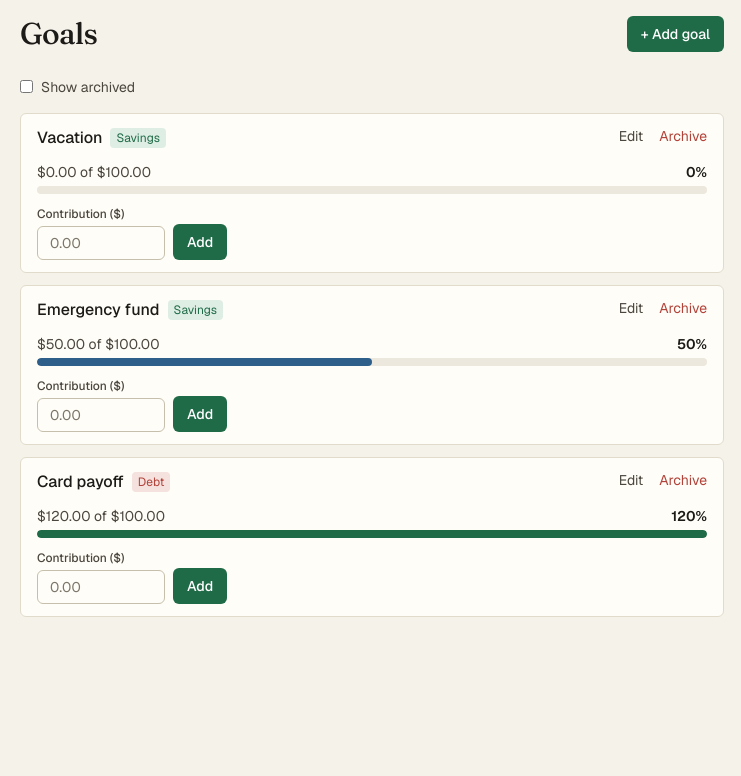
Test: GoalsPage › clears the stale list when a refetch after toggling fails
Click the checkbox labelled "Show archived" at [26, 86], box [20,80,33,93]
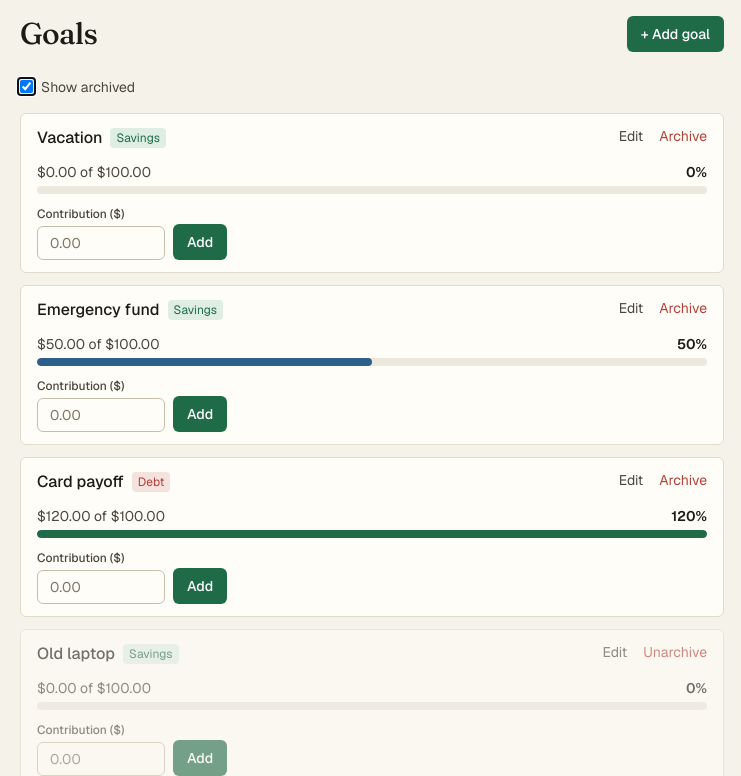
Click the checkbox labelled "Show archived" at [26, 86], box [20,80,33,93]
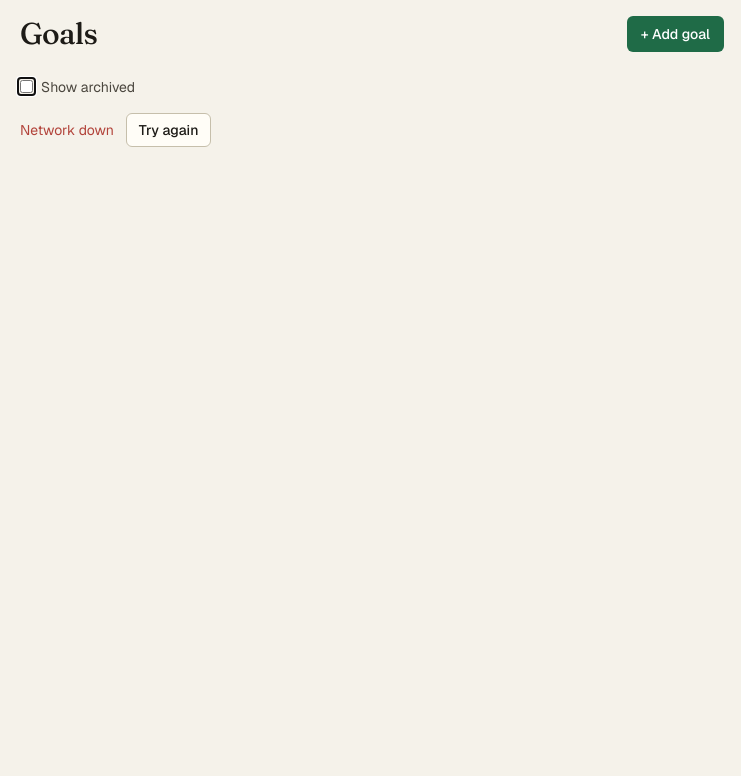
Check: the checkbox labelled "Show archived" is not checked, box [20,80,33,93]
Check: the text "Network down" is shown, box [20,120,114,140]
